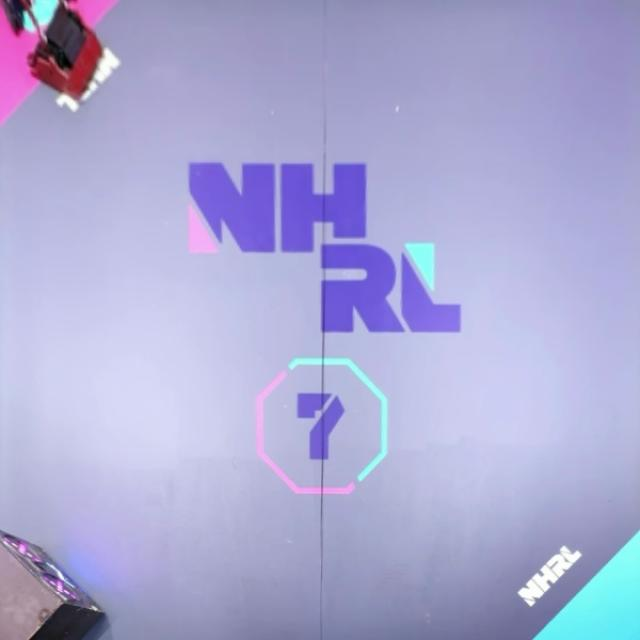housebot: (0, 527, 110, 640)
robot: (26, 4, 105, 100), (0, 0, 65, 33)
